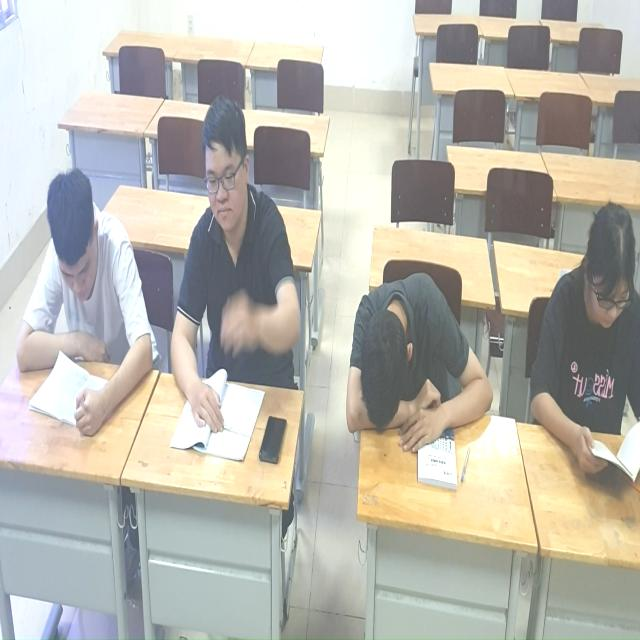raise_hand: (174, 84, 308, 436)
read: (7, 156, 156, 438), (514, 204, 640, 502)
sleep: (346, 269, 503, 468)
